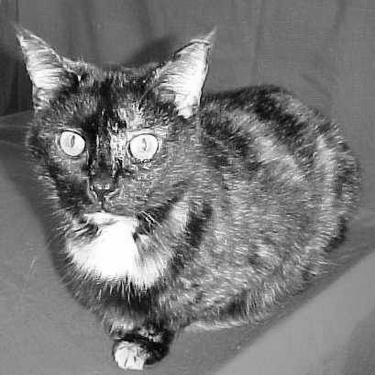cat: (12, 17, 358, 369)
